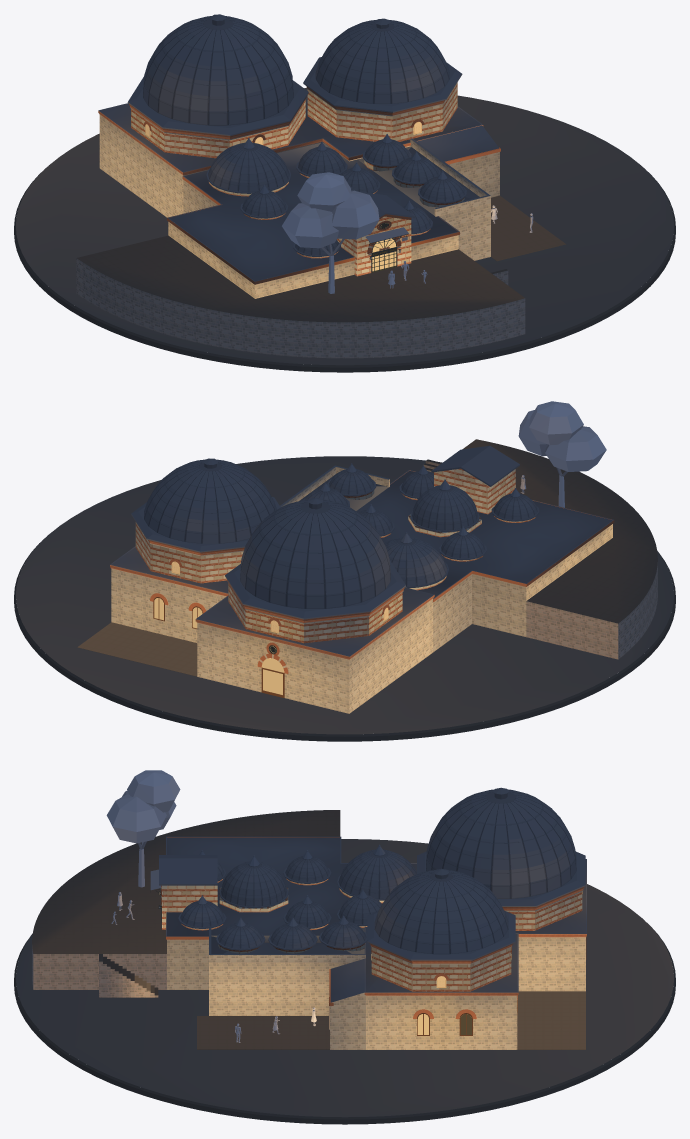
File: orhan-bey-hamami_v08_night_sunum.glb
3 renders of one model, top to bottom at view 1: azimuth 30°, elevation 25°; view 2: azimuth 150°, elevation 25°; view 3: azimuth 270°, elevation 25°, orthographic.
Parts seen in each view (by area): view 1: Zemin_Kaide, Zemin_Set, Hamam_Sicaklik, Hamam_Sogukluk_Erkek, Hamam_Sogukluk_Kadin, Cevre_Agac_01, Hamam_Giris, Hamam_Giris_Kadin, Cevre_Doseme; view 2: Zemin_Kaide, Hamam_Sogukluk_Erkek, Hamam_Sicaklik, Hamam_Sogukluk_Kadin, Zemin_Set, Cevre_Agac_01, Hamam_Giris, Cevre_Doseme; view 3: Zemin_Kaide, Hamam_Sicaklik, Hamam_Sogukluk_Kadin, Hamam_Sogukluk_Erkek, Zemin_Set, Cevre_Doseme, Cevre_Agac_01, Hamam_Giris, Hamam_Giris_Kadin.
Boxes of the visible parts, bbox=[...] form: Zemin_Kaide: bbox=[14, 88, 675, 372]; Zemin_Set: bbox=[76, 235, 525, 358]; Hamam_Sicaklik: bbox=[167, 134, 490, 298]; Hamam_Sogukluk_Erkek: bbox=[98, 14, 333, 217]; Hamam_Sogukluk_Kadin: bbox=[303, 18, 483, 161]; Cevre_Agac_01: bbox=[282, 172, 379, 293]; Hamam_Giris: bbox=[337, 191, 415, 276]; Hamam_Giris_Kadin: bbox=[417, 125, 500, 197]; Cevre_Doseme: bbox=[491, 195, 565, 261]; Zemin_Kaide: bbox=[14, 456, 675, 741]; Hamam_Sogukluk_Erkek: bbox=[195, 498, 434, 713]; Hamam_Sicaklik: bbox=[280, 463, 614, 652]; Hamam_Sogukluk_Kadin: bbox=[110, 458, 280, 642]; Zemin_Set: bbox=[423, 439, 657, 659]; Cevre_Agac_01: bbox=[518, 401, 606, 507]; Hamam_Giris: bbox=[431, 445, 519, 514]; Cevre_Doseme: bbox=[77, 622, 197, 676]; Zemin_Kaide: bbox=[14, 839, 675, 1124]; Hamam_Sicaklik: bbox=[166, 836, 416, 1015]; Hamam_Sogukluk_Kadin: bbox=[364, 868, 518, 1049]; Hamam_Sogukluk_Erkek: bbox=[417, 787, 586, 991]; Zemin_Set: bbox=[32, 810, 340, 997]; Cevre_Doseme: bbox=[197, 991, 585, 1049]; Cevre_Agac_01: bbox=[106, 770, 180, 887]; Hamam_Giris: bbox=[150, 855, 217, 929]; Hamam_Giris_Kadin: bbox=[329, 959, 365, 1049].
Size of the model in its own units: 54.96 by 15.8 by 54.96.
20 materials, 7 textured.
